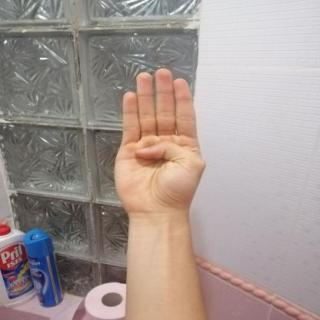KAAF: (101, 61, 215, 224)
